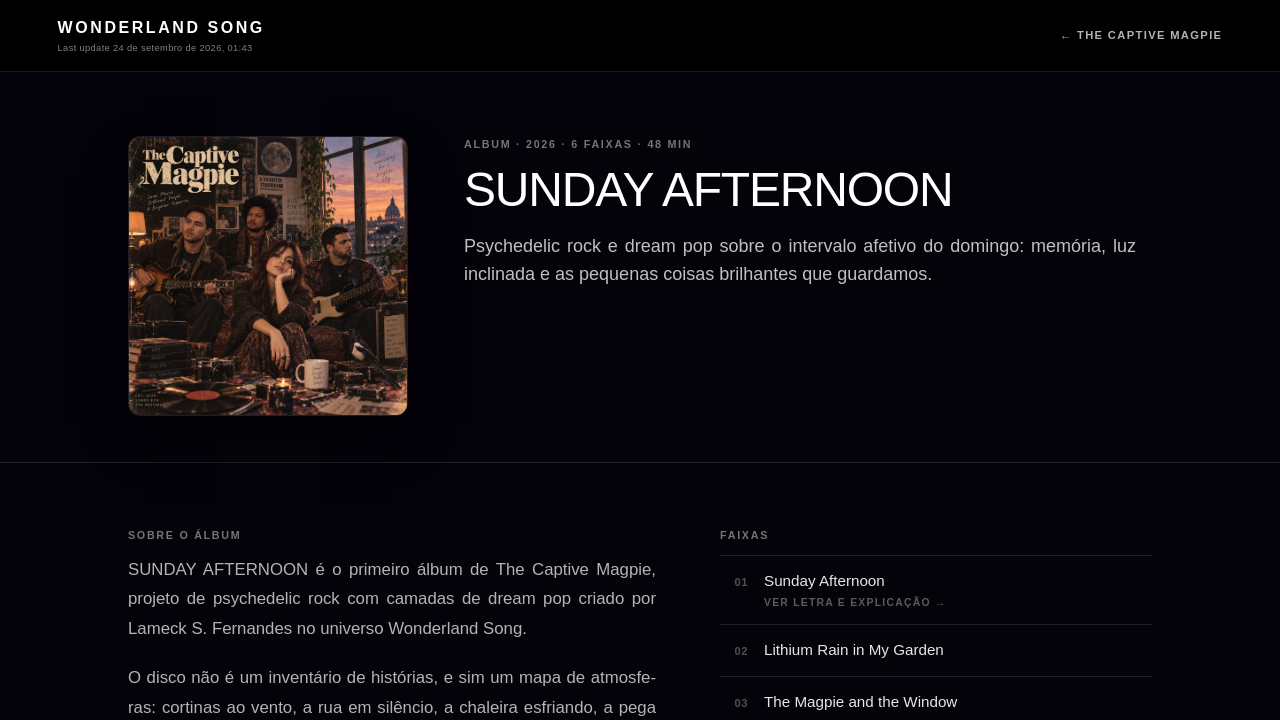
App › opens SUNDAY AFTERNOON album with title-track lyrics and PT translation
This screenshot has width=1280, height=720.
Expected: the heading "SUNDAY AFTERNOON" is shown, top-left (464, 163), bottom-right (952, 216)
Expected: the text "The Magpie and the Window" is shown, top-left (764, 693), bottom-right (957, 710)
Click the button "Sunday Afternoon Ver letra e explicação →" at (824, 581), box top-left (764, 570), bottom-right (1152, 610)
(page scrolled)
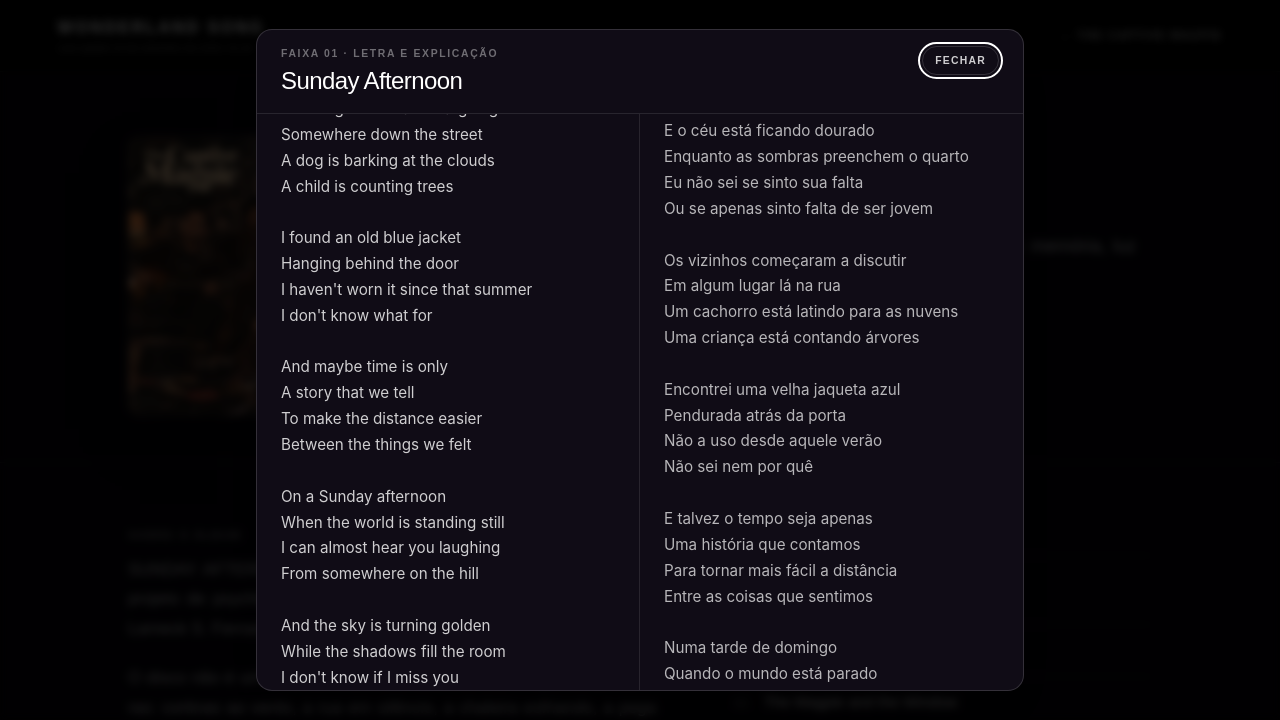
Expected: the dialog is shown
